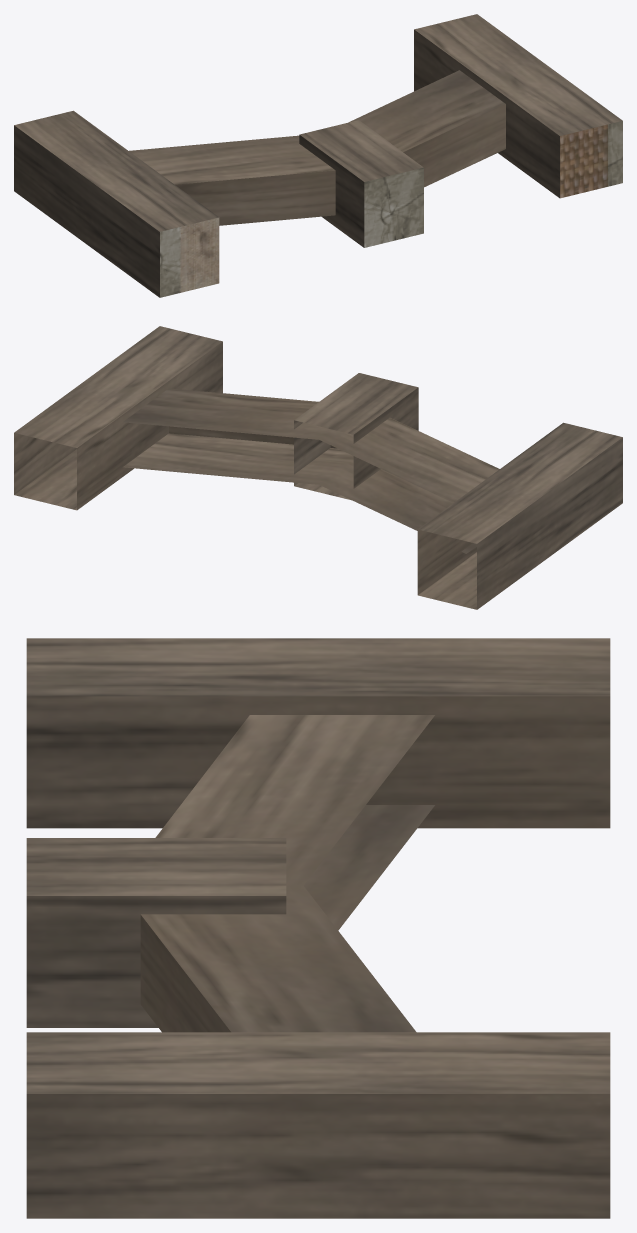
The model's file is Keg_B_Stand.fbx.
The picture shows the model from 3 angles, top to bottom: view 1: azimuth 30°, elevation 25°; view 2: azimuth 150°, elevation 25°; view 3: azimuth 270°, elevation 25°; orthographic projection. The views are drawn at different scales.
Parts seen in each view (by area): view 1: Keg_B_Stand; view 2: Keg_B_Stand; view 3: Keg_B_Stand.
Part boxes in pixels (bbox=[...]): Keg_B_Stand: bbox=[14, 14, 622, 297]; Keg_B_Stand: bbox=[14, 326, 622, 609]; Keg_B_Stand: bbox=[26, 638, 610, 1218].
Size of the model in its own units: 0.9158 by 0.1247 by 0.4995.
